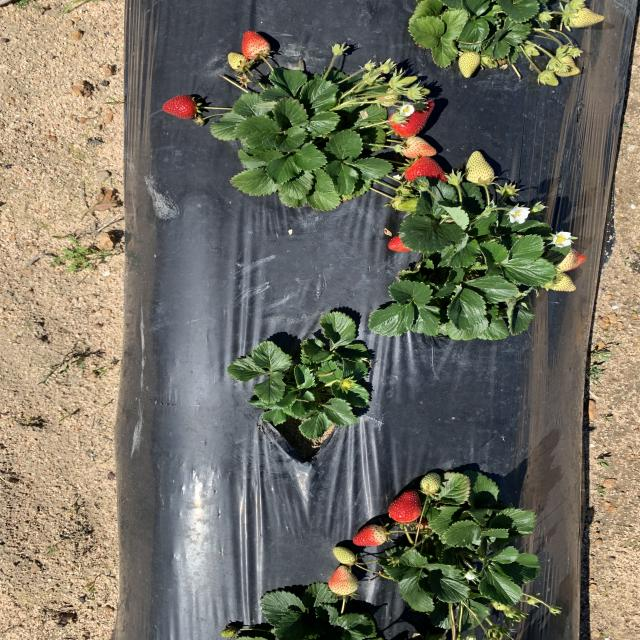unripe: (387, 99, 436, 135), (403, 156, 455, 187), (389, 226, 441, 255), (388, 489, 424, 524), (160, 93, 201, 121), (241, 31, 269, 58), (354, 524, 386, 546)
